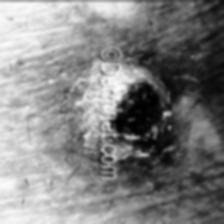Non-Cancerous Skin Condition: (121, 33, 200, 196)
